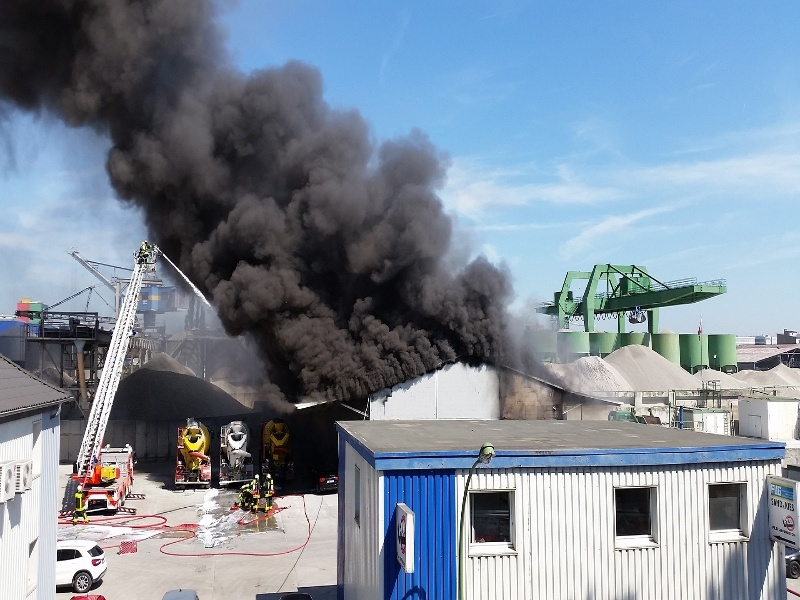smoke: (1, 2, 472, 375)
